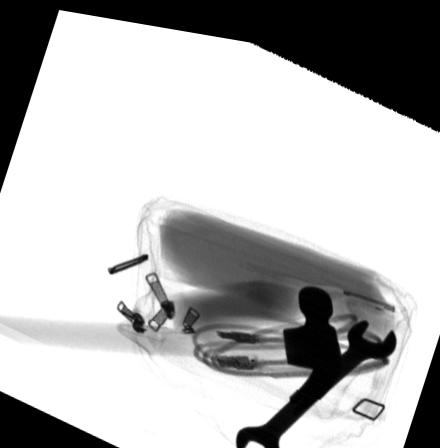Hammer: (0, 274, 341, 396)
Wrench: (235, 307, 397, 448)
